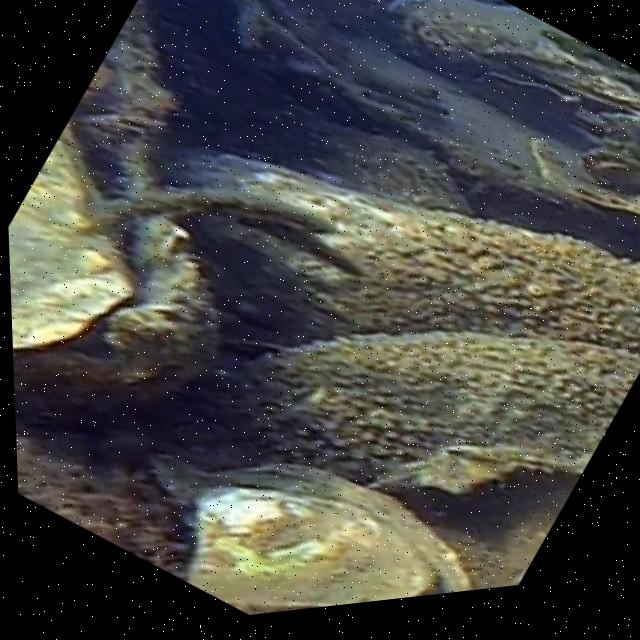Oyster-Indeterminate: (157, 146, 640, 374), (224, 328, 640, 484), (198, 484, 436, 615), (8, 121, 123, 354)
